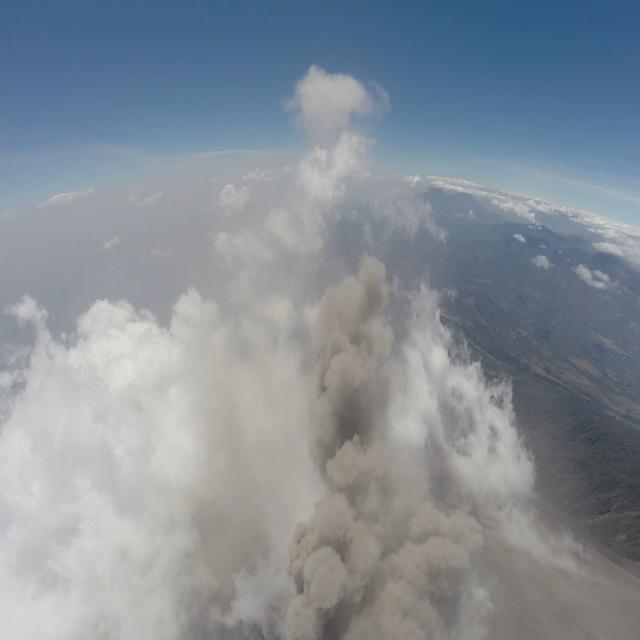Plume: (292, 253, 453, 640)
